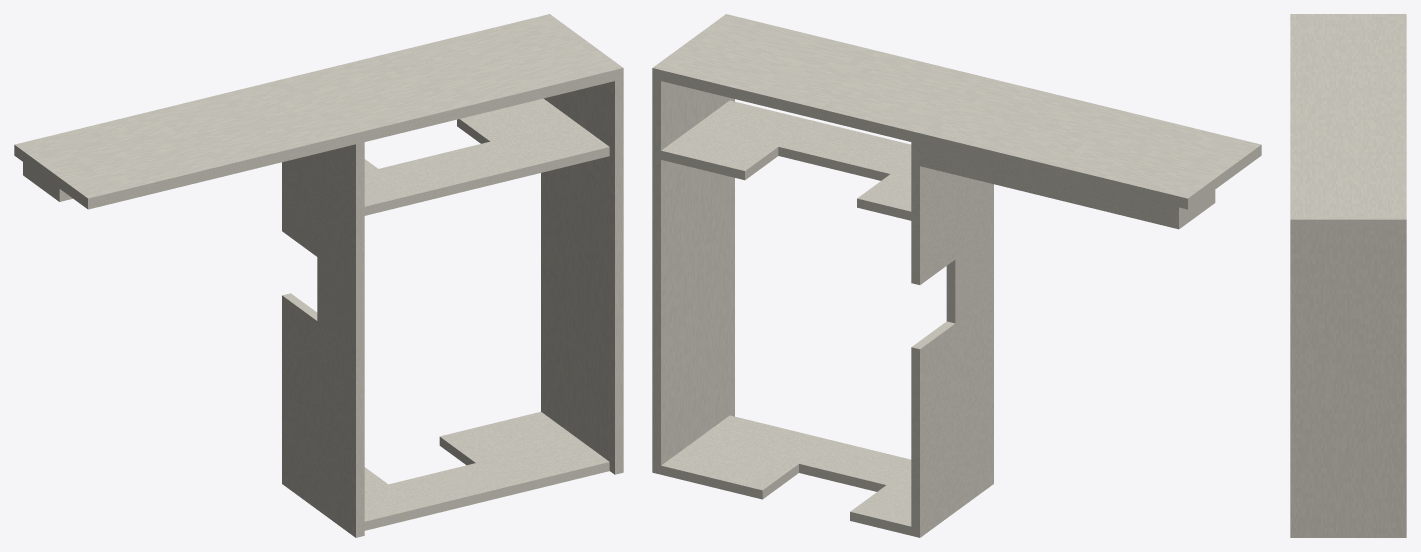
The model's file is plaster.glb.
3 renders of one model, left to right at view 1: azimuth 30°, elevation 25°; view 2: azimuth 150°, elevation 25°; view 3: azimuth 270°, elevation 25°, orthographic. The views are drawn at different scales.
Bounding box in the file's own units: 30.6 × 22.1 × 7.3.
1 material, 1 textured.
